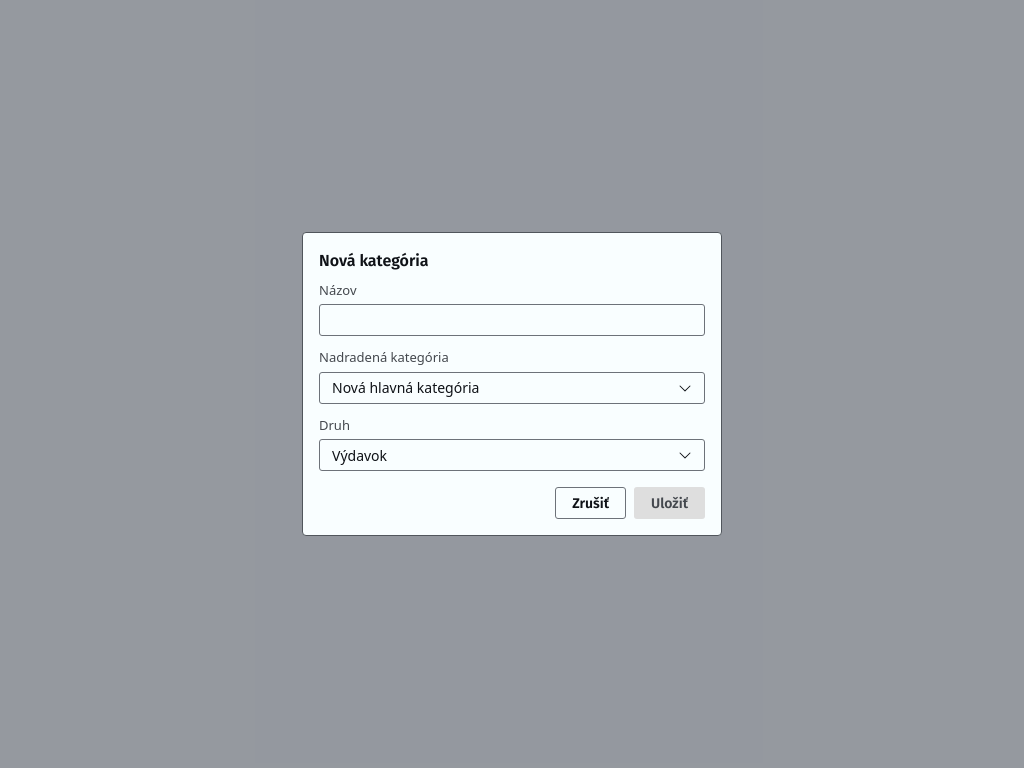
Test: CategoryDialog › preserves the typed draft and shows the error when creation fails
In the field named "Názov kategórie": (512, 320) [319,304,705,336], type "Duplicitná"
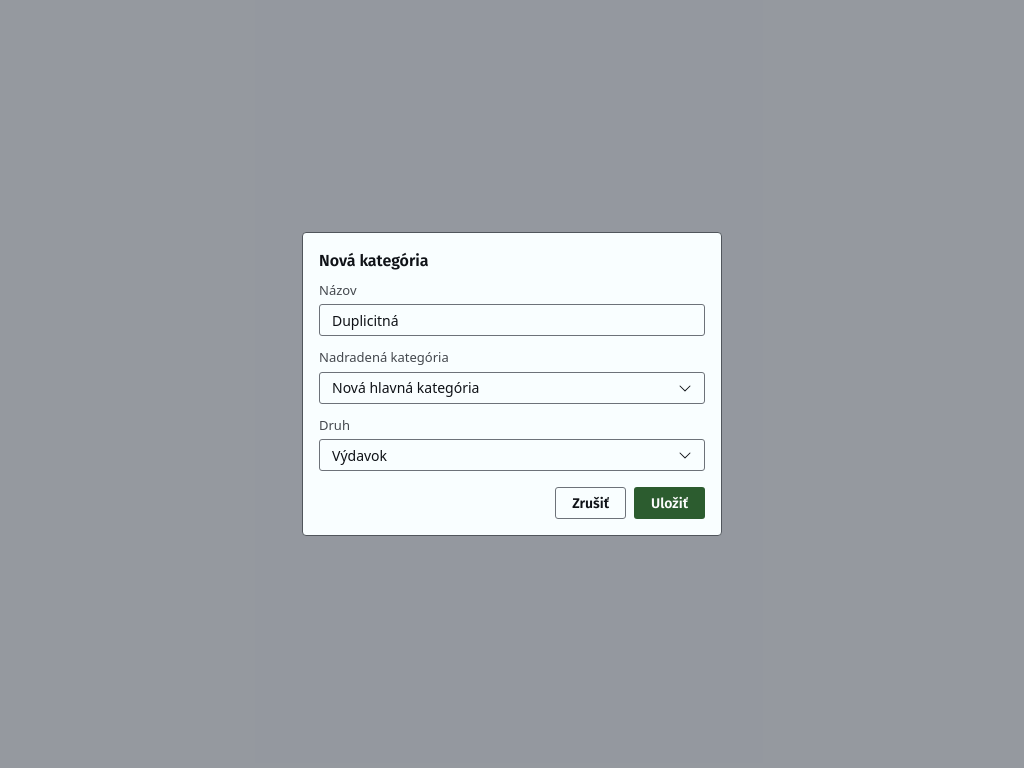
Click the button "Uložiť": click(670, 503) [634,487,705,519]
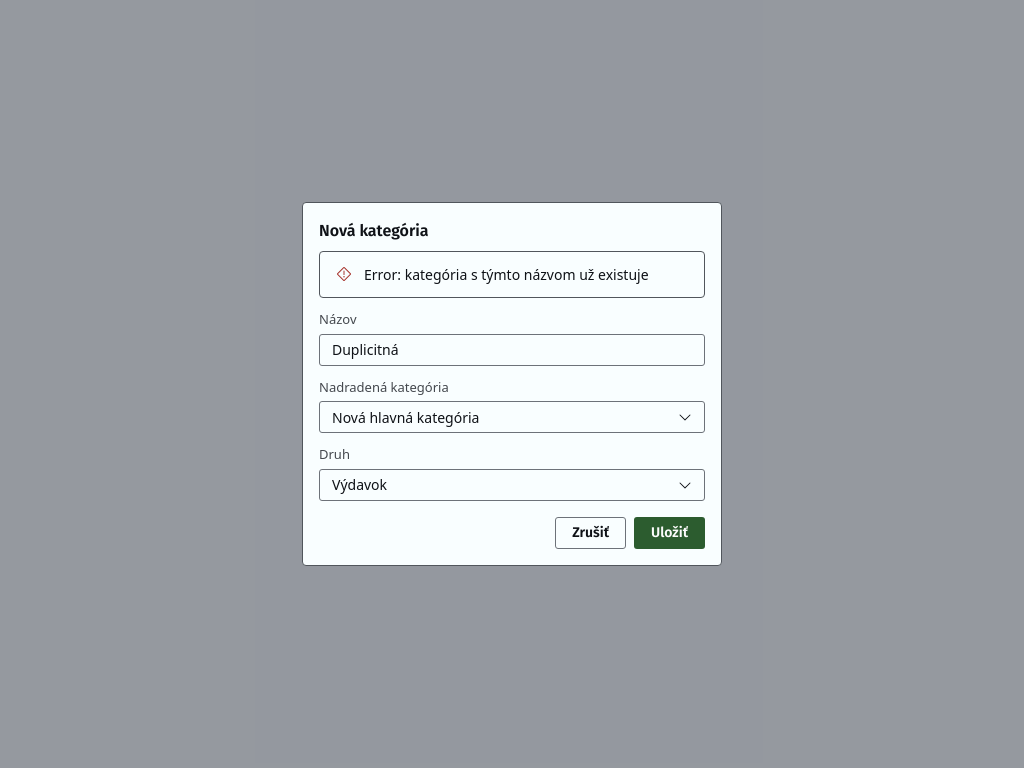
Check: the text "Error: kategória s týmto názvom už existuje" is shown, box [364,264,692,285]
